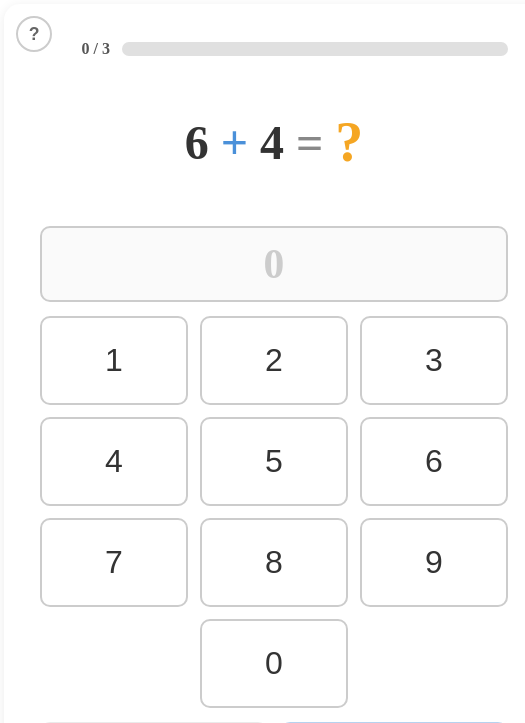
MathSolver › accepts digit input
Click the button with test id "digit-btn-5".
click(274, 462)  # box [200,417,348,506]
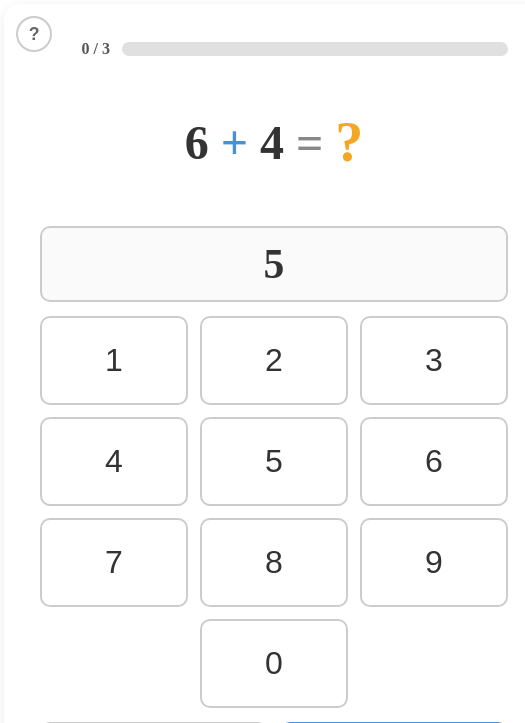
Expected: the field with test id "answer-display" reads "5", [264,241,284,287]
